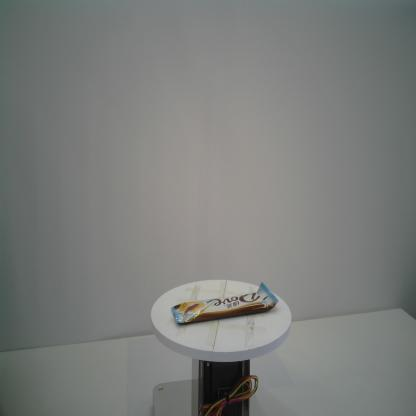Chocolate: (169, 279, 280, 327)
